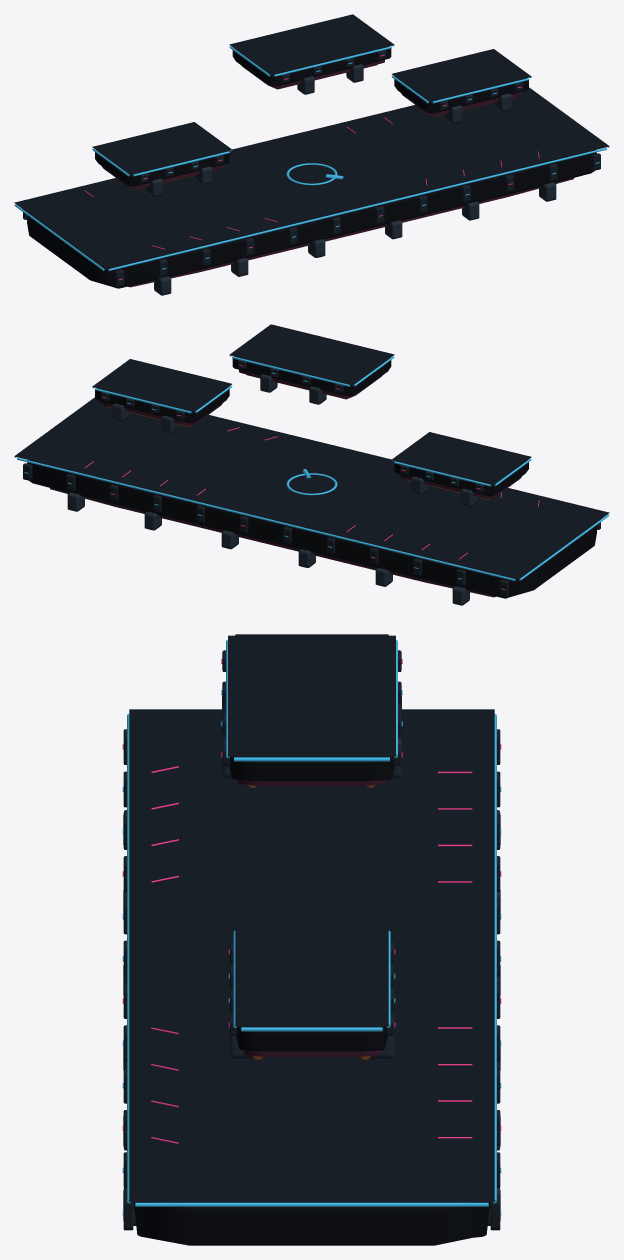
The model's file is afterglow-rooftop.obj.
The picture shows the model from 3 angles, top to bottom: view 1: azimuth 30°, elevation 25°; view 2: azimuth 150°, elevation 25°; view 3: azimuth 270°, elevation 25°; orthographic projection. The views are drawn at different scales.
Visible parts, largest first — view 1: arena-deck_part_176, beveled-plate_part_0, arena-deck_part_179, arena-deck_part_177, arena-deck_part_178, beveled-plate_part_106, cylinder_part_134, beveled-plate_part_84, beveled-plate_part_62, beveled-plate_part_1; view 2: arena-deck_part_176, beveled-plate_part_0, arena-deck_part_179, arena-deck_part_177, arena-deck_part_178, beveled-plate_part_106, cylinder_part_132, beveled-plate_part_84, beveled-plate_part_62, beveled-plate_part_1; view 3: arena-deck_part_176, arena-deck_part_179, arena-deck_part_178, beveled-plate_part_0, beveled-plate_part_106, beveled-plate_part_84, cylinder_part_135, cylinder_part_132, cylinder_part_134, beveled-plate_part_107, beveled-plate_part_85.
Boxes of the visible parts, box(x1,y1,x2,y2) form: arena-deck_part_176: box(14, 87, 609, 269); beveled-plate_part_0: box(27, 150, 596, 288); arena-deck_part_179: box(229, 14, 394, 74); arena-deck_part_177: box(92, 122, 232, 174); arena-deck_part_178: box(392, 49, 531, 101); beveled-plate_part_106: box(232, 46, 391, 86); cylinder_part_134: box(108, 147, 606, 270); beveled-plate_part_84: box(394, 78, 528, 113); beveled-plate_part_62: box(95, 151, 229, 186); beveled-plate_part_1: box(128, 178, 573, 287); arena-deck_part_176: box(14, 397, 609, 579); beveled-plate_part_0: box(27, 460, 596, 598); arena-deck_part_179: box(229, 324, 394, 384); arena-deck_part_177: box(391, 432, 531, 484); arena-deck_part_178: box(92, 359, 231, 411); beveled-plate_part_106: box(232, 356, 391, 396); cylinder_part_132: box(17, 457, 515, 580); beveled-plate_part_84: box(95, 388, 229, 423); beveled-plate_part_62: box(394, 461, 528, 496); beveled-plate_part_1: box(50, 488, 495, 597); arena-deck_part_176: box(129, 709, 494, 1201); arena-deck_part_179: box(228, 635, 395, 756); arena-deck_part_178: box(235, 926, 388, 1026); beveled-plate_part_0: box(133, 1202, 490, 1245); beveled-plate_part_106: box(229, 756, 394, 781); beveled-plate_part_84: box(236, 1026, 387, 1051); cylinder_part_135: box(135, 1202, 488, 1206); cylinder_part_132: box(493, 714, 496, 1203); cylinder_part_134: box(127, 714, 130, 1203); beveled-plate_part_107: box(237, 780, 386, 786); beveled-plate_part_85: box(244, 1050, 379, 1056).
Bounding box in the file's own units: 23.69 × 7.55 × 7.67.
